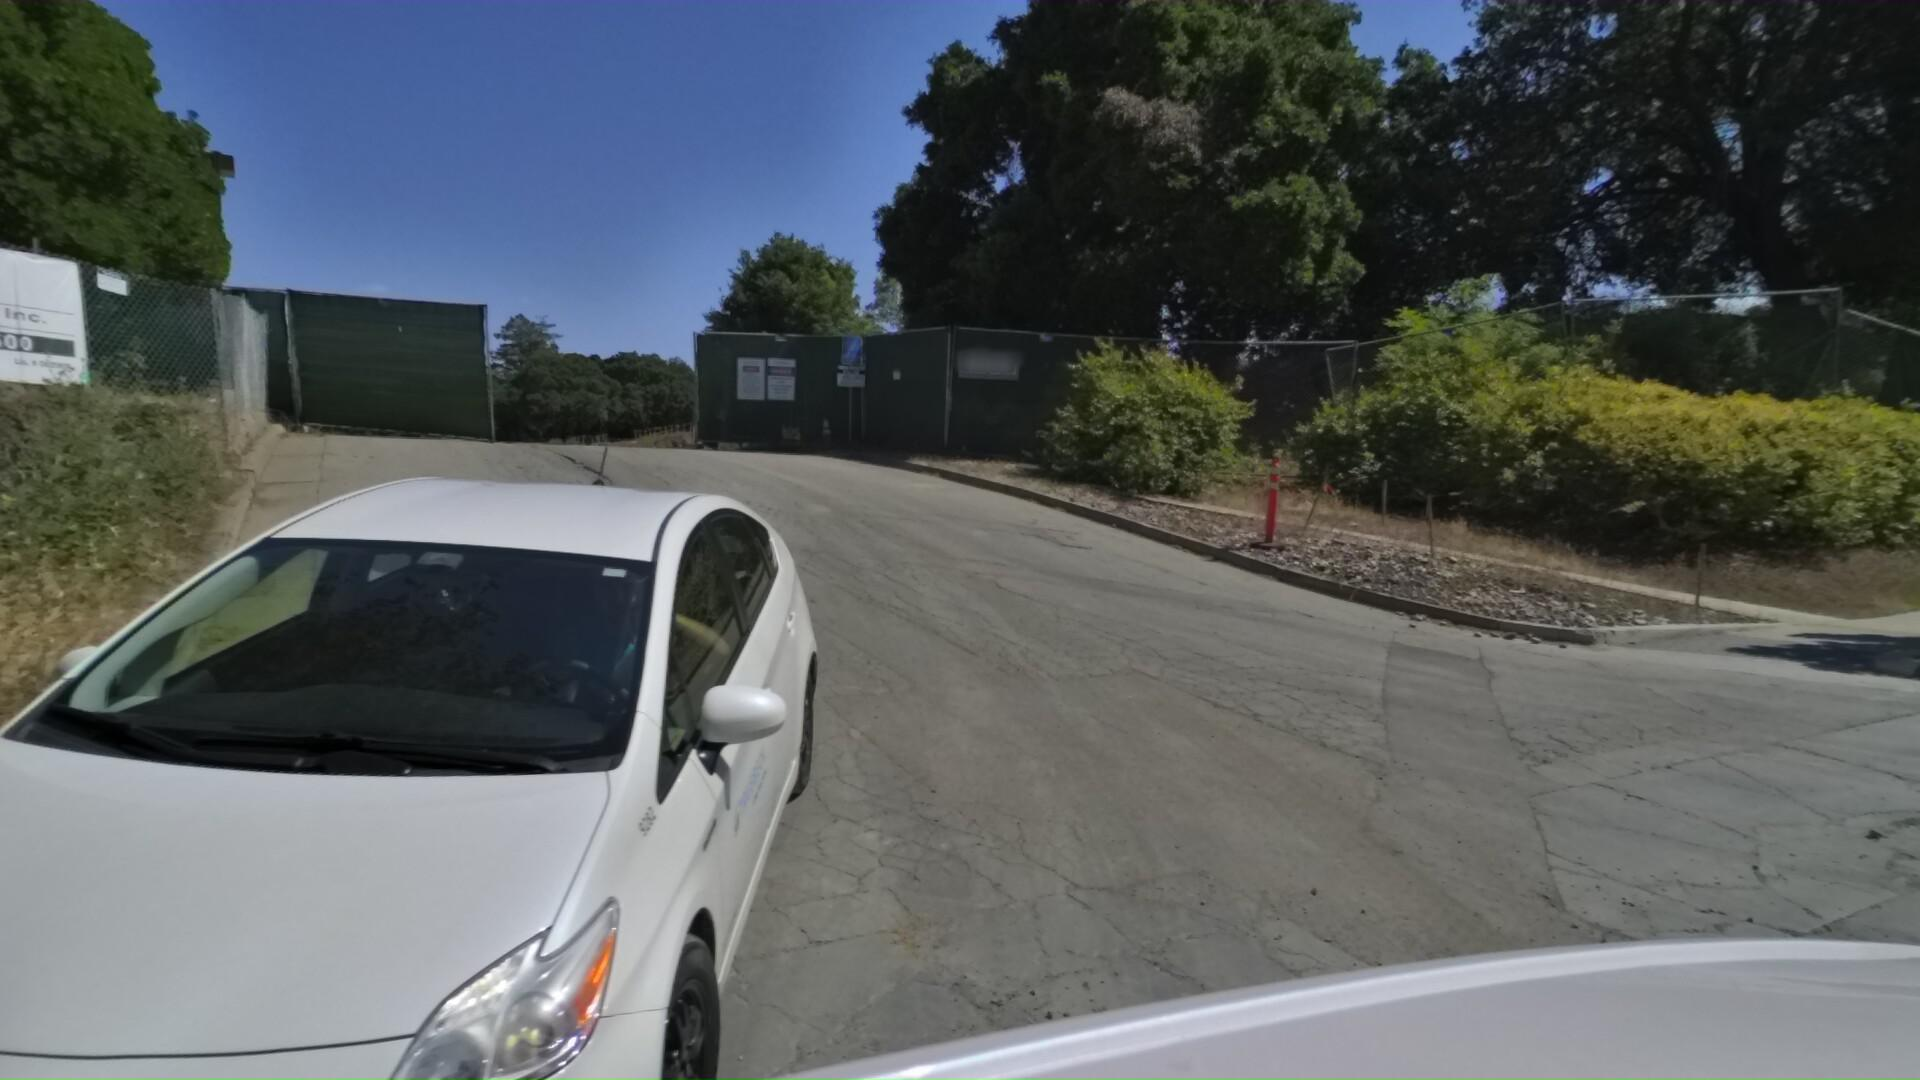car: (0, 398, 942, 1080)
